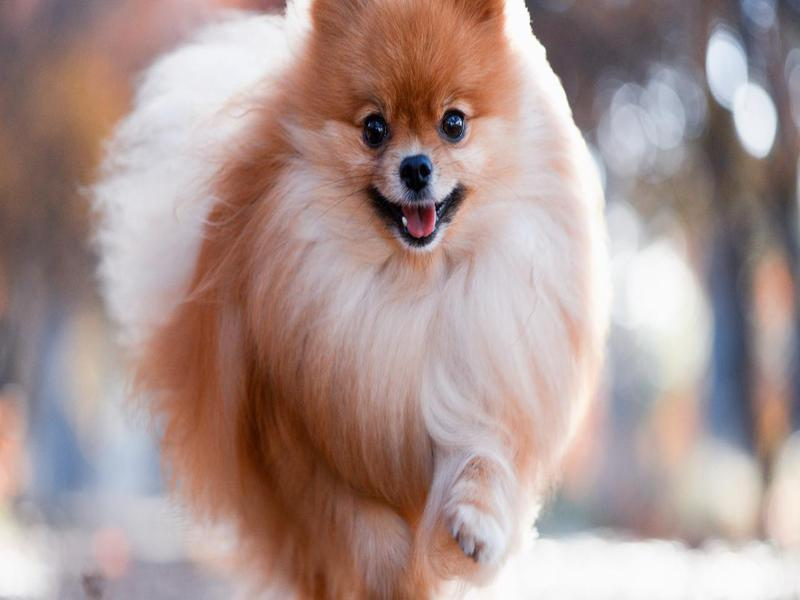dog: (90, 4, 614, 597)
